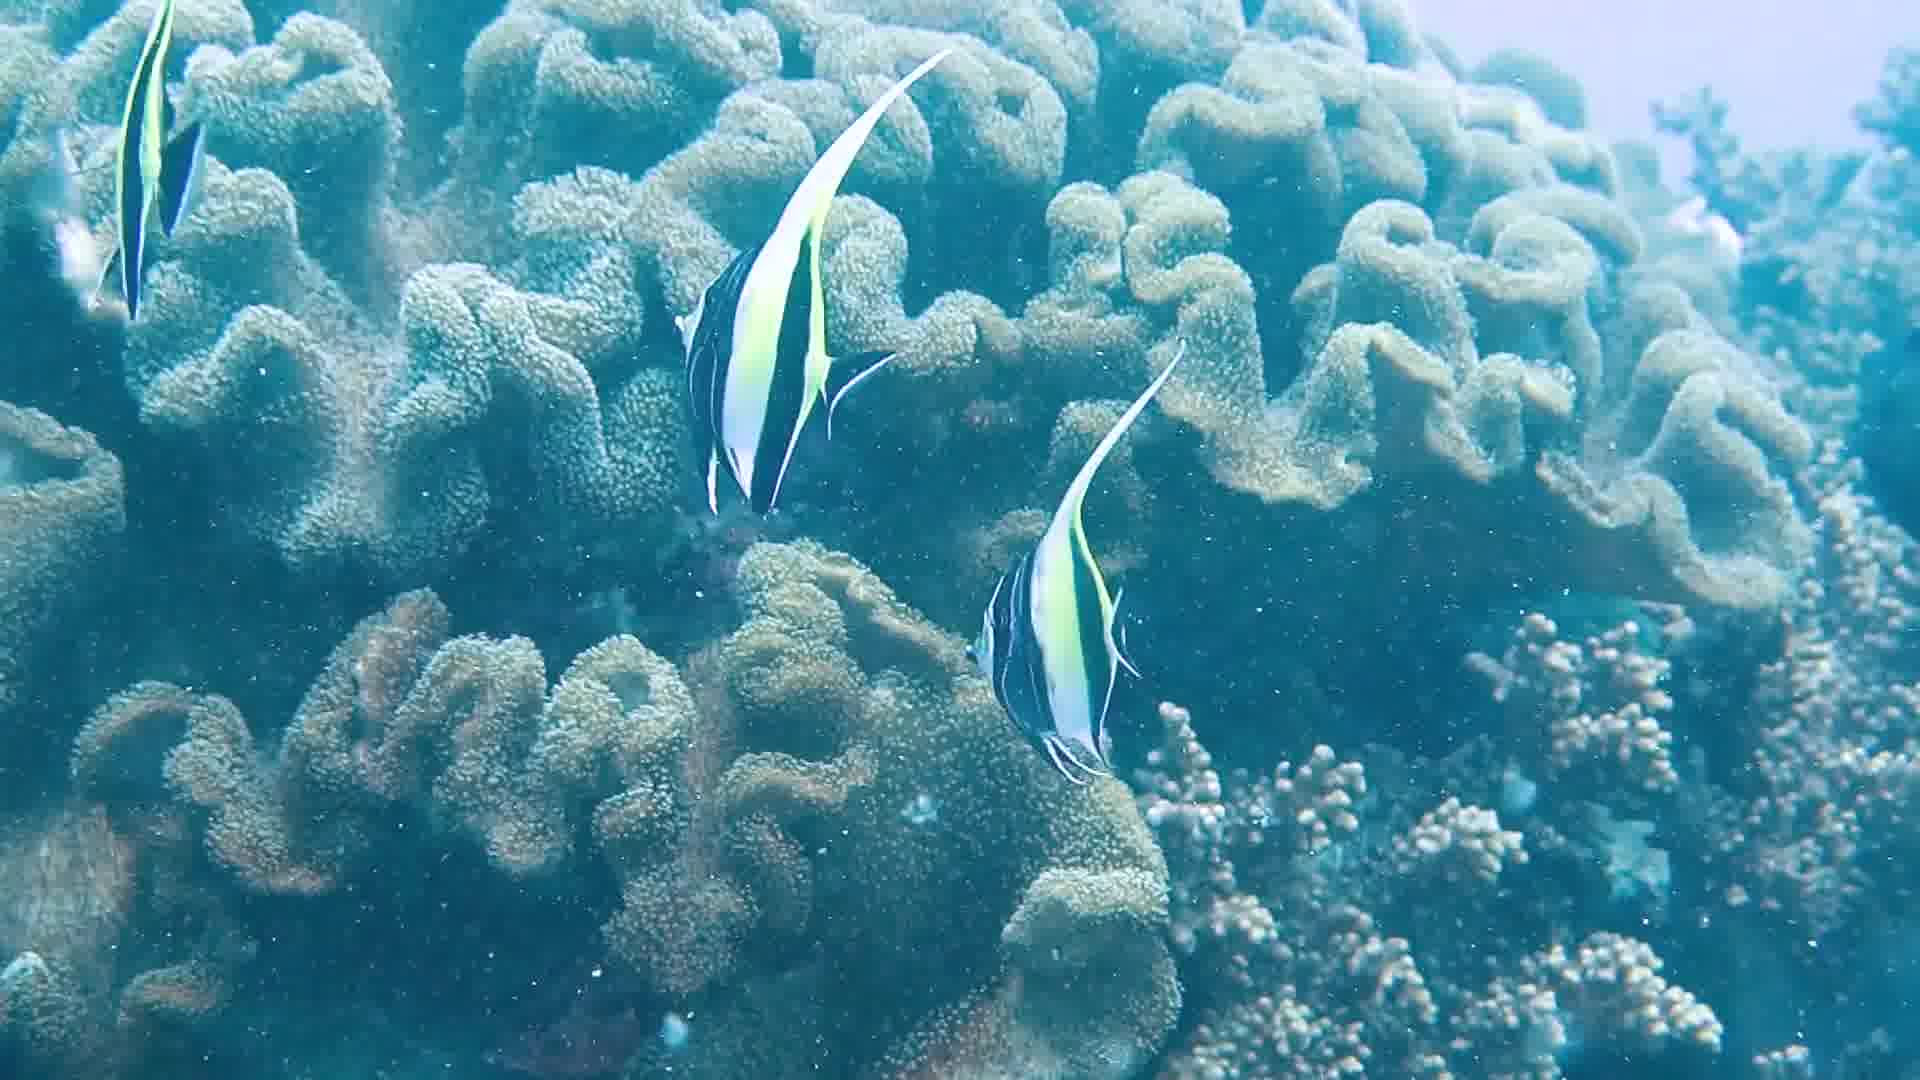Zanclus cornutus: (924, 454, 1174, 785), (59, 5, 309, 335), (642, 193, 891, 522)
